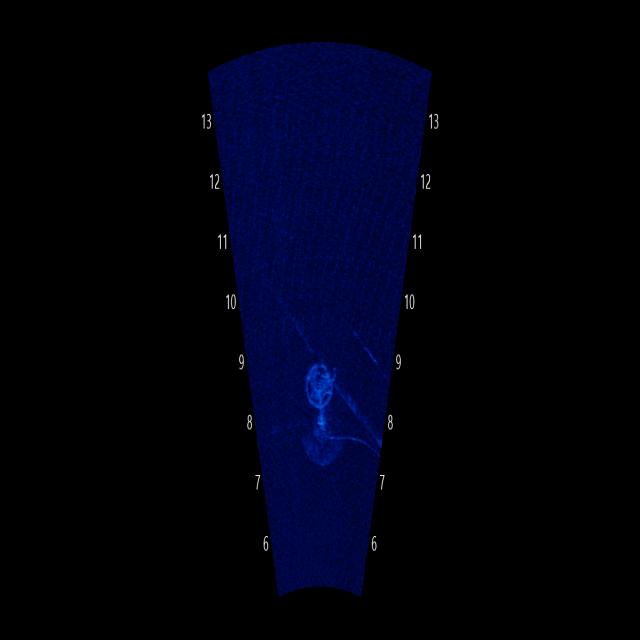circle: (283, 340, 346, 420)
